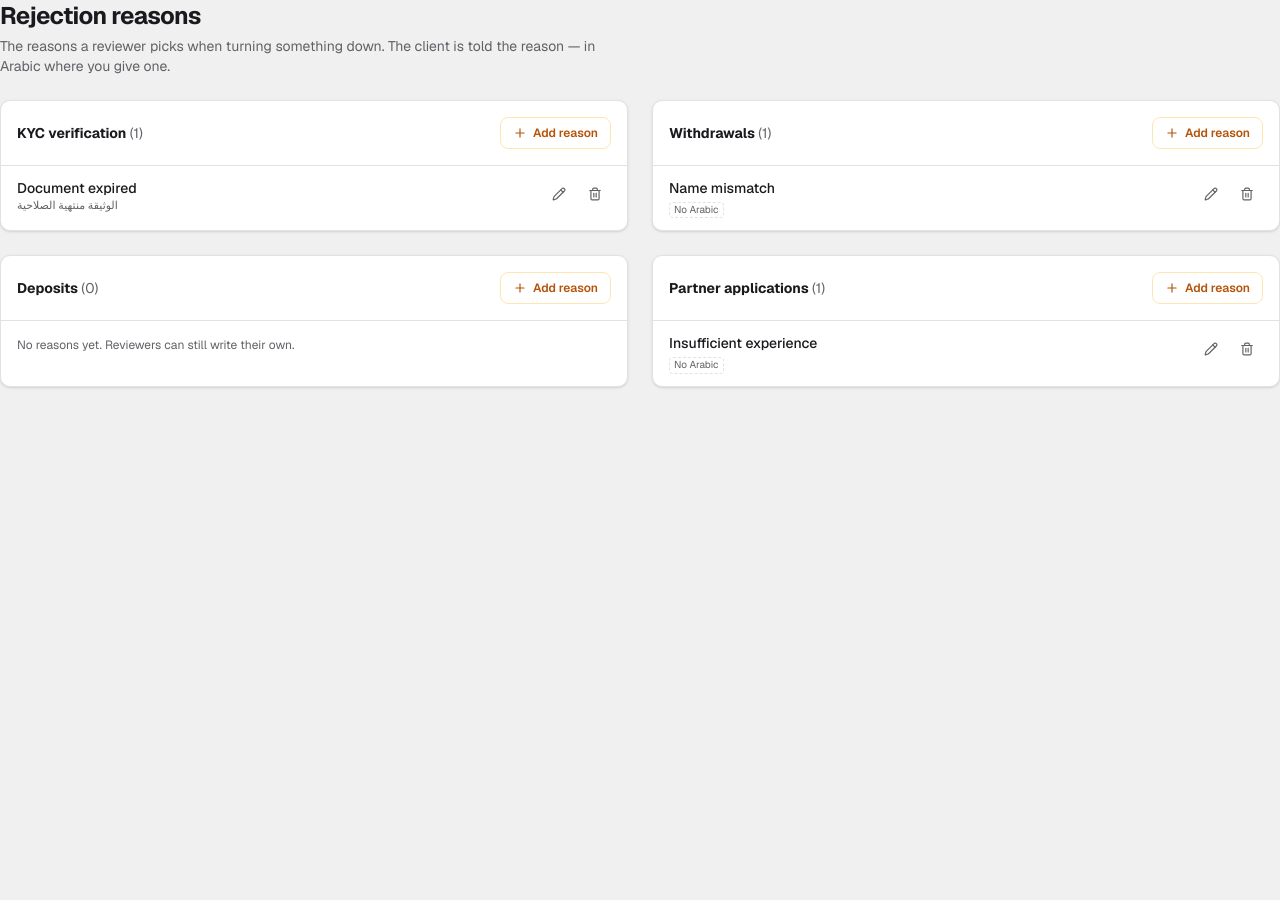
writing › keeps the modal open with the server’s refusal
Click the button named "Edit Document expired": click(559, 194) x1=543 y1=178 x2=575 y2=210
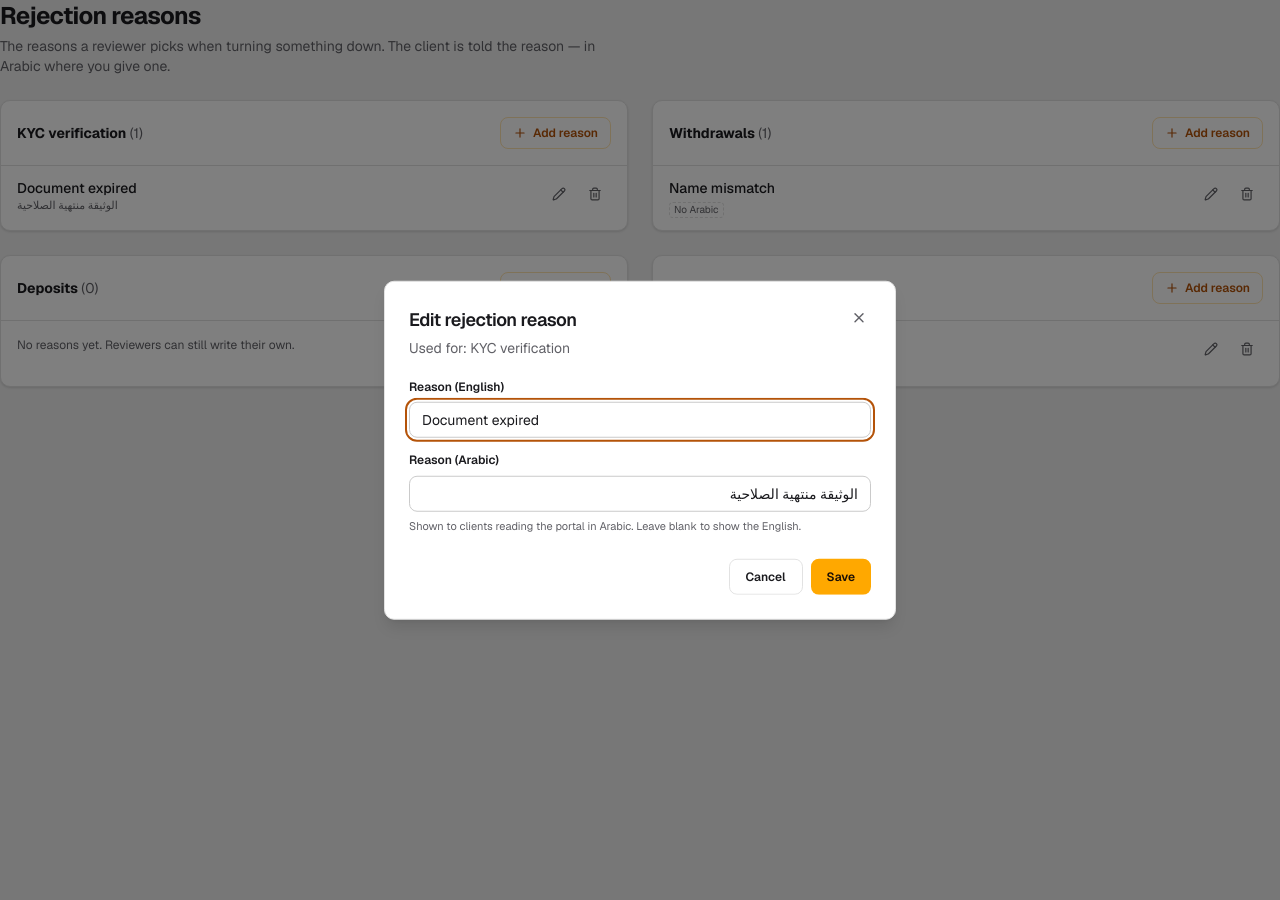
Click the button "Save": click(841, 576) x1=810 y1=558 x2=871 y2=594
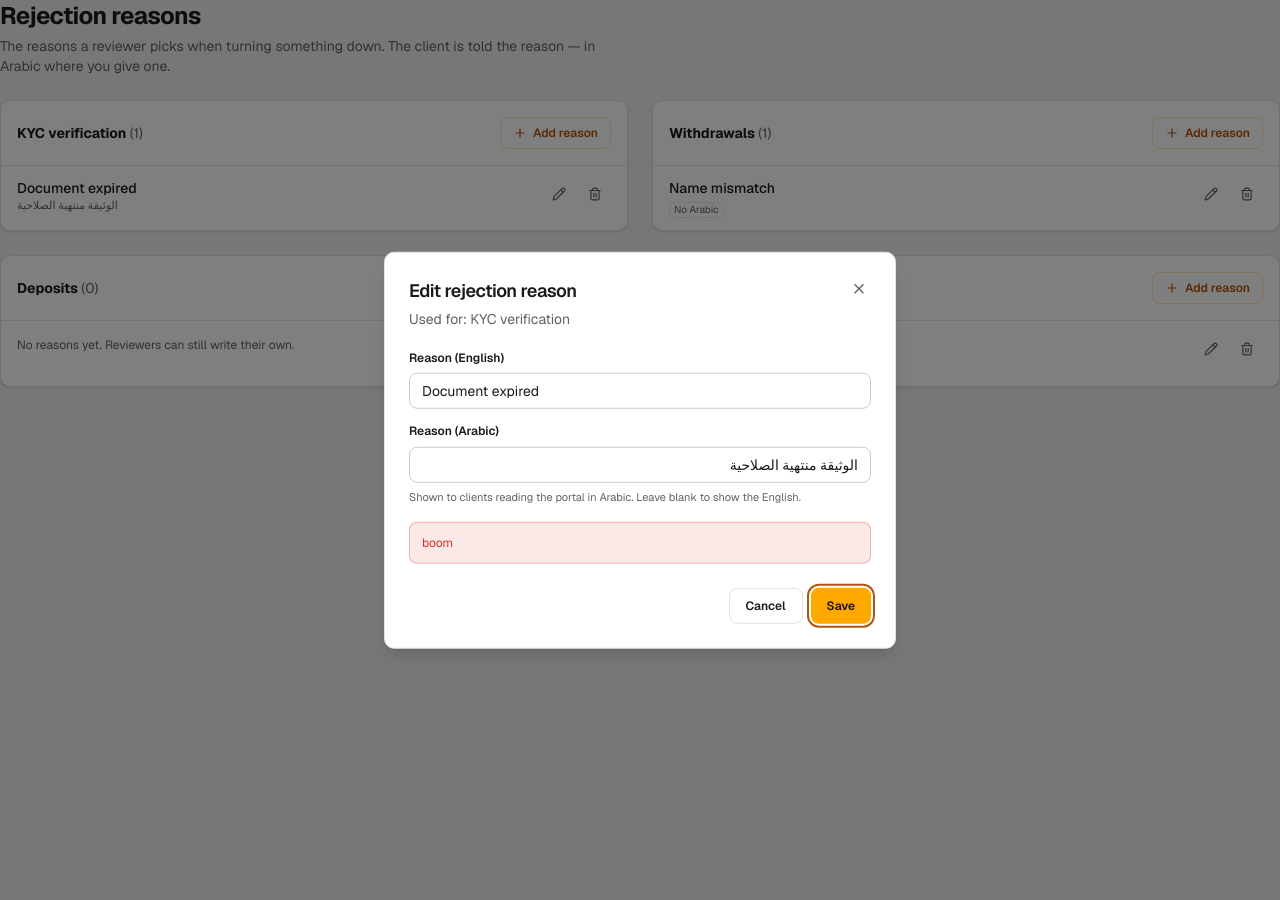
Now the field labelled "Reason (English)" is shown, box x1=409 y1=373 x2=871 y2=409
Now the message "boom" is shown, box x1=409 y1=521 x2=871 y2=563
